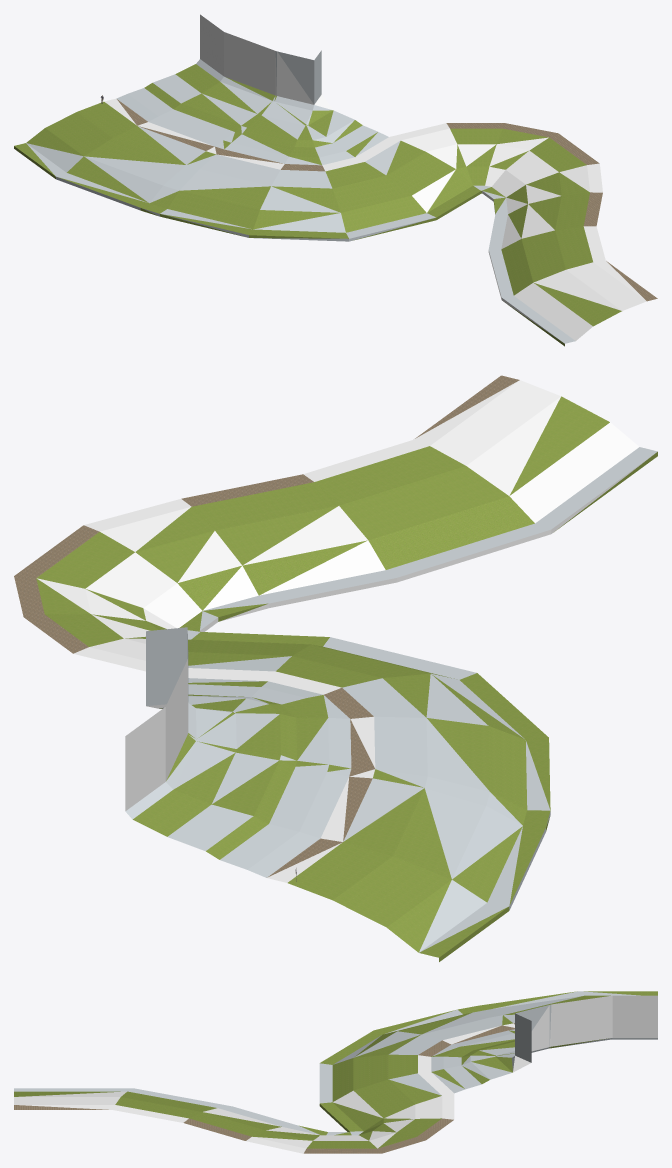
The picture shows the model from 3 angles, top to bottom: view 1: azimuth 30°, elevation 25°; view 2: azimuth 150°, elevation 25°; view 3: azimuth 270°, elevation 25°; orthographic projection. The views are drawn at different scales.
Parts seen in each view (by area): view 1: Untitled; view 2: Untitled; view 3: Untitled.
Part boxes in pixels (bbox=[...]): Untitled: bbox=[14, 14, 657, 346]; Untitled: bbox=[14, 375, 657, 961]; Untitled: bbox=[14, 991, 657, 1153].
Bounding box in the file's own units: 83.51 × 17.82 × 124.
10 materials, 2 textured.
